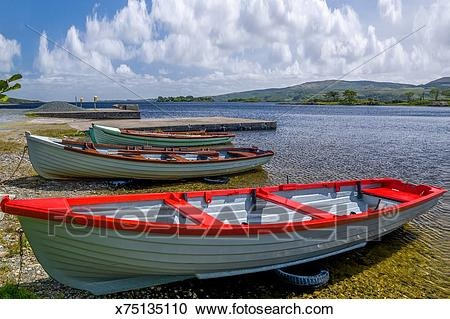otherboat: (1, 176, 450, 291), (14, 123, 271, 180)
